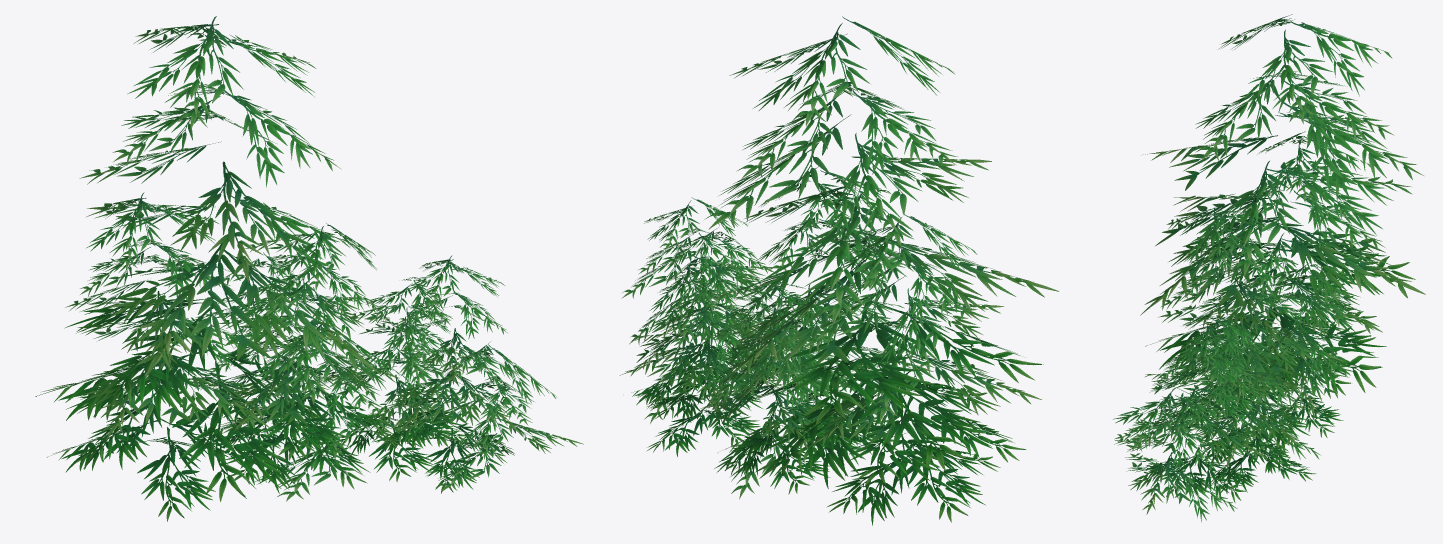
The model's file is Area_13_18.fbx.
3 renders of one model, left to right at view 1: azimuth 30°, elevation 25°; view 2: azimuth 150°, elevation 25°; view 3: azimuth 270°, elevation 25°, orthographic. The views are drawn at different scales.
Visible parts, largest first — view 1: Area_13_18; view 2: Area_13_18; view 3: Area_13_18.
Boxes of the visible parts, x1,y1,x2,y2 form: Area_13_18: [35, 16, 583, 521]; Area_13_18: [619, 16, 1058, 525]; Area_13_18: [1113, 14, 1425, 522].
Size of the model in its own units: 1521 by 1515 by 1117.
